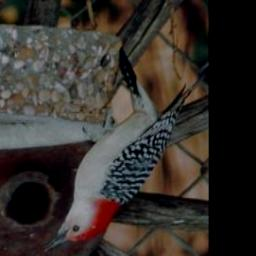Woodpecker: (38, 43, 207, 252)
